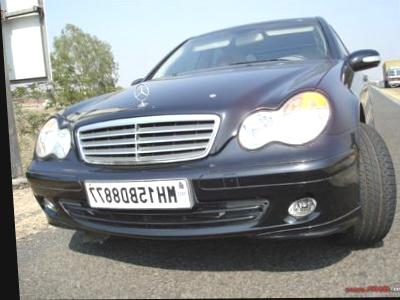License_Plate: (85, 178, 190, 211)
